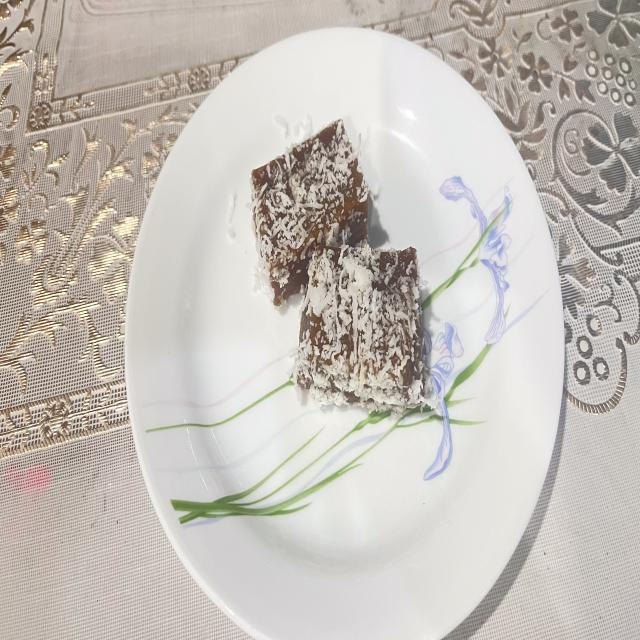kaswi: (294, 242, 434, 413), (251, 120, 369, 304)
